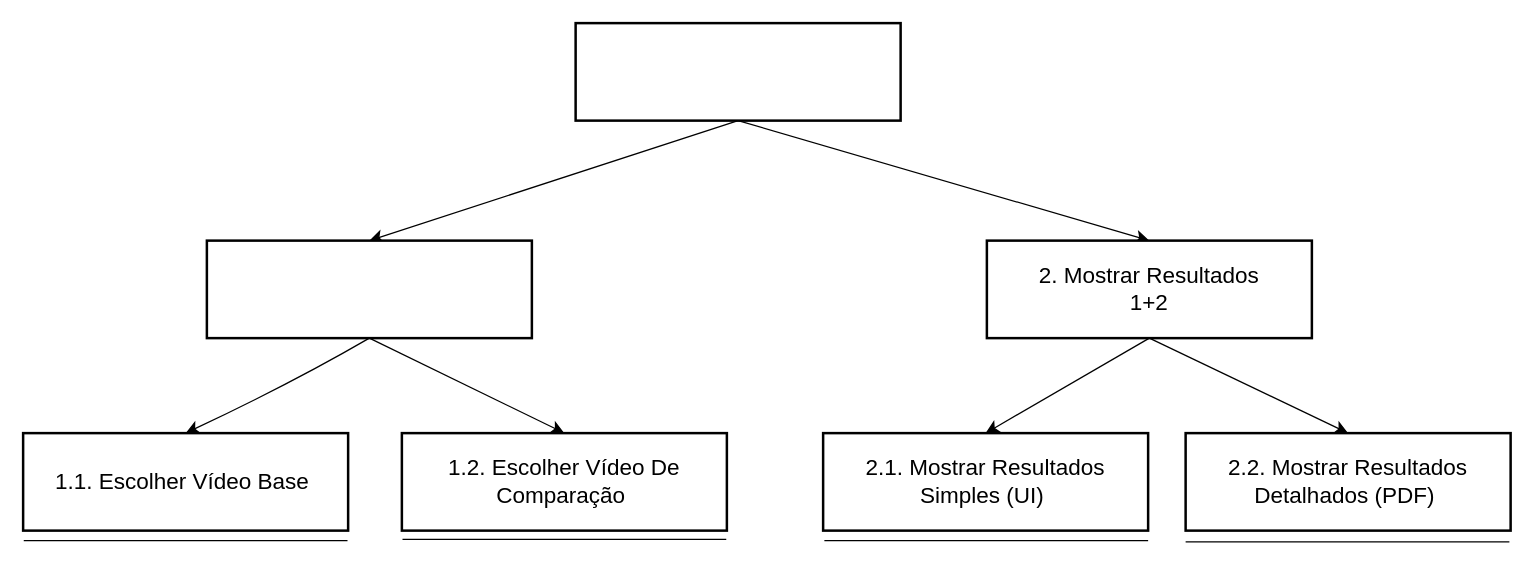
Some shapes in this 1533 by 565 pixel diagram are drawn without their labels. Each missing label, with the box of its shape:
0. Comparar Pose Com Vídeo Gravado 1>2: (574, 21, 901, 121)
1. Escolher Vídeos 1>2: (205, 239, 532, 339)
